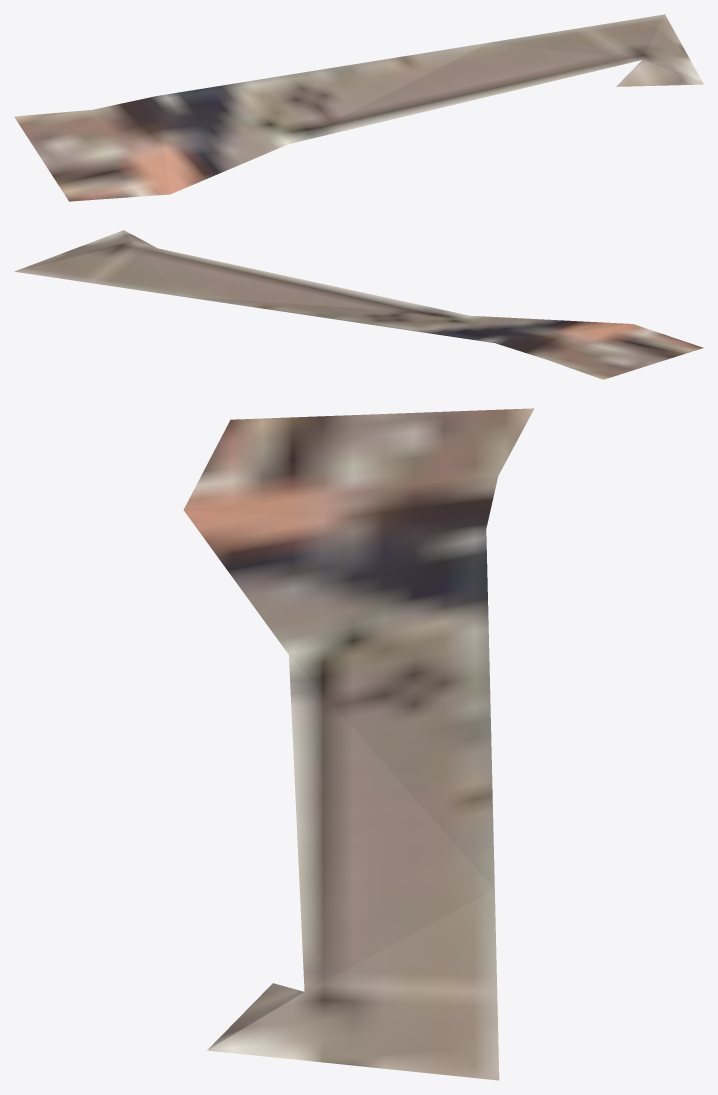
3 renders of one model, top to bottom at view 1: azimuth 30°, elevation 25°; view 2: azimuth 150°, elevation 25°; view 3: azimuth 270°, elevation 25°, orthographic. The views are drawn at different scales.
Parts seen in each view (by area): view 1: Z_UP; view 2: Z_UP; view 3: Z_UP.
Part boxes in pixels (x1,y1,x2,y2): Z_UP: (14, 14, 703, 201); Z_UP: (15, 230, 703, 379); Z_UP: (183, 408, 534, 1080).
Size of the model in its own units: 23.18 by 1.68 by 5.66.
1 material, 1 textured.
